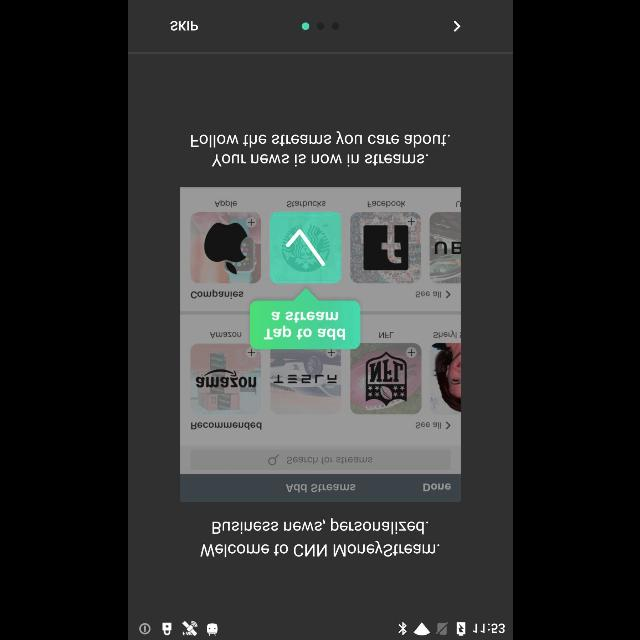icon: (452, 20, 460, 32)
image: (179, 186, 461, 502)
pageindicator: (300, 22, 340, 30)
text: (190, 130, 450, 148), (200, 540, 440, 558), (212, 518, 428, 534), (211, 154, 427, 166), (169, 21, 197, 31)
uppertaskbar: (128, 617, 512, 639)
